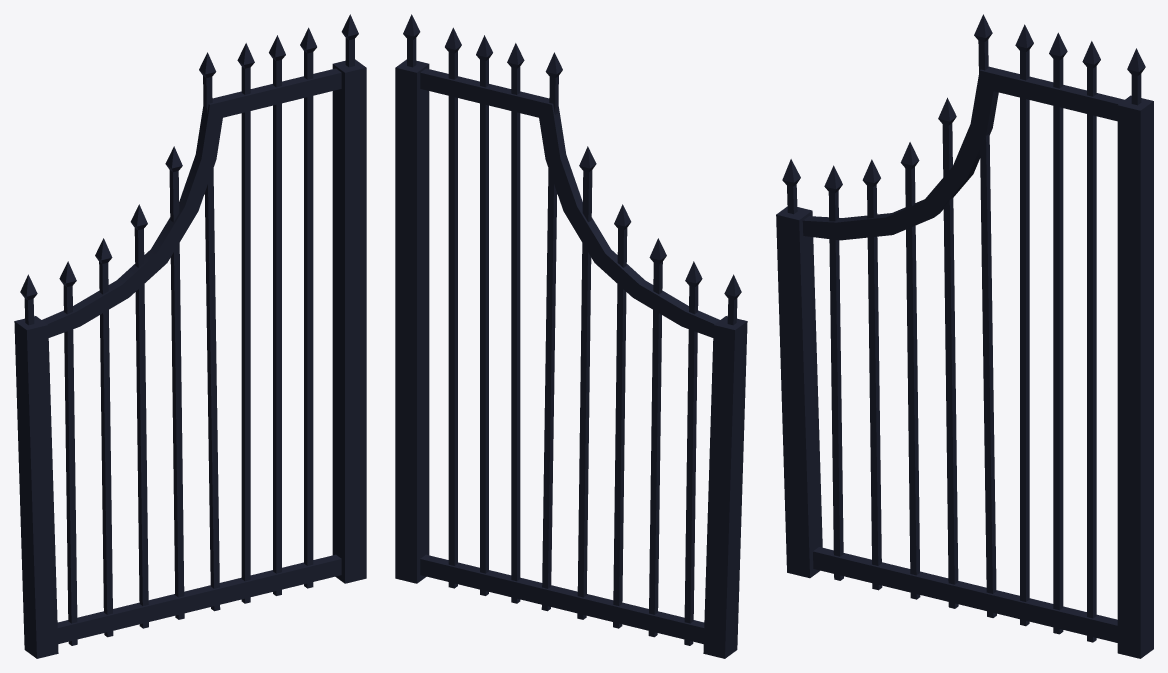
Rendered from CemeteryFence.fbx.
The picture shows the model from 3 angles, left to right: view 1: azimuth 30°, elevation 25°; view 2: azimuth 150°, elevation 25°; view 3: azimuth 330°, elevation 25°; orthographic projection. The views are drawn at different scales.
Visible parts, largest first — view 1: CemeteryFence; view 2: CemeteryFence; view 3: CemeteryFence.
Part boxes in pixels (box(x1,y1,x2,y2)): CemeteryFence: box(14, 14, 366, 658); CemeteryFence: box(395, 14, 747, 658); CemeteryFence: box(776, 14, 1153, 658).
Size of the model in its own units: 198 by 313 by 12.5.
